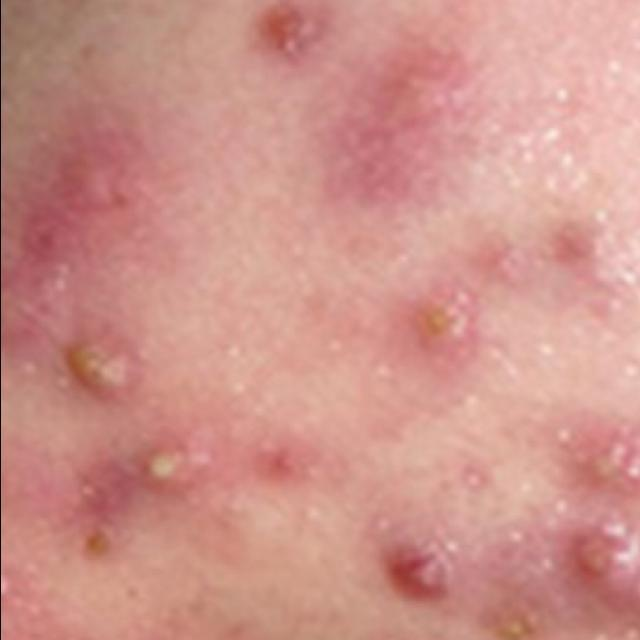acne: (398, 210, 627, 406), (74, 424, 324, 597), (308, 25, 504, 222), (467, 422, 640, 640), (46, 324, 170, 418), (376, 510, 464, 620), (240, 0, 346, 70)
